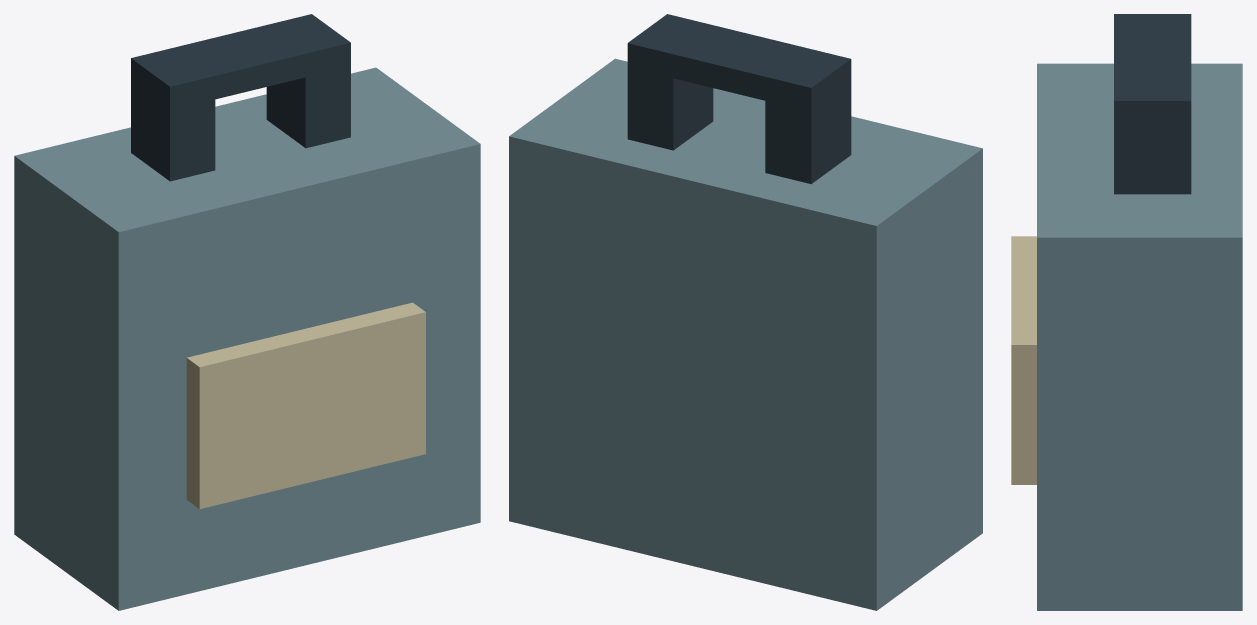
Rendered from telecom-16.glb.
3 renders of one model, left to right at view 1: azimuth 30°, elevation 25°; view 2: azimuth 150°, elevation 25°; view 3: azimuth 270°, elevation 25°, orthographic. The views are drawn at different scales.
Parts seen in each view (by area): view 1: Field case; view 2: Field case; view 3: Field case.
Boxes of the visible parts, x1,y1,x2,y2 form: Field case: [14, 14, 480, 610]; Field case: [509, 14, 982, 610]; Field case: [1011, 14, 1242, 610].
Size of the model in its own units: 1.28 by 1.6 by 0.72.
